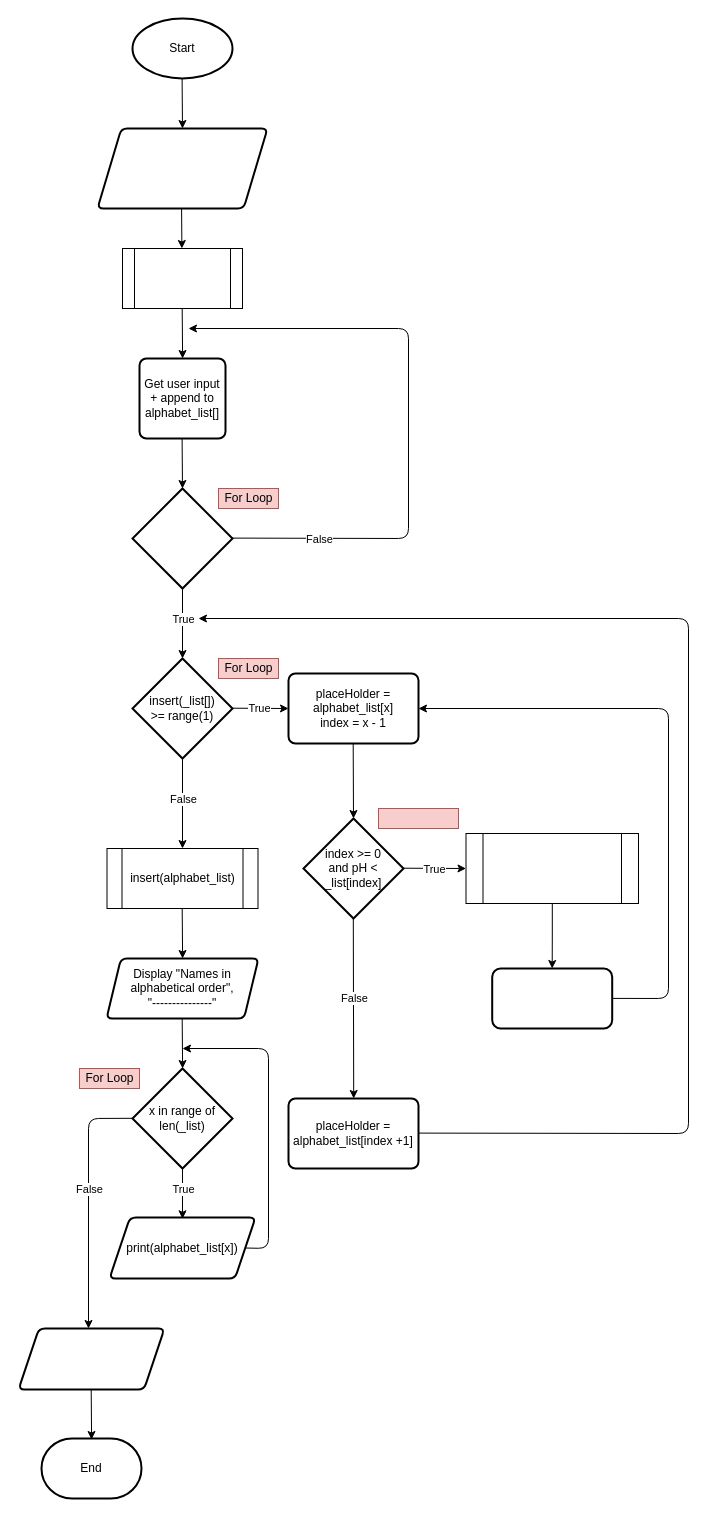
Image size: 714x1516. Some labels were removed from this diagram. The shapes that lost their labels are listed below. From the top down, each one's box as (x1, y1, x2, y2) in pixels, then its label:
(96, 127, 268, 209): Display "Begin entering 20 names"
(122, 248, 242, 308): alphabet_list = []
(131, 487, 233, 589): input range(20) & = string
(378, 808, 458, 828): While Loop
(465, 832, 638, 904): alphabet_list[index] = alphabet_list[index + 1]
(491, 967, 613, 1029): index -= 1
(17, 1327, 165, 1390): print("---------------")
